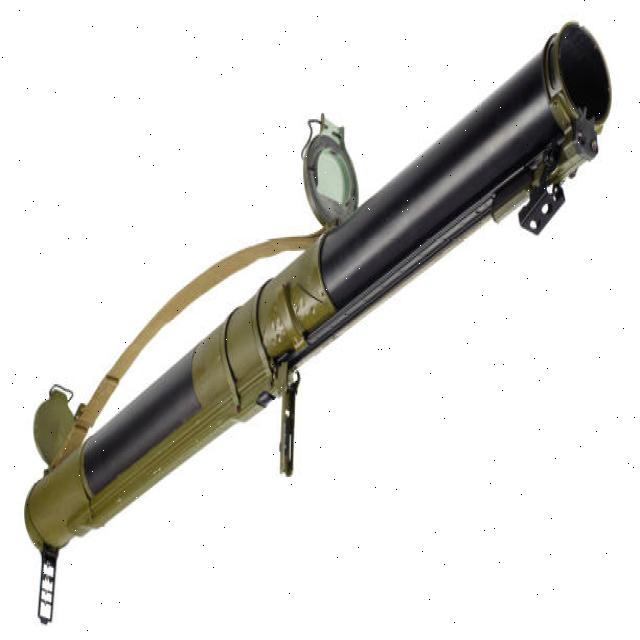bazooka: (19, 13, 617, 638)
